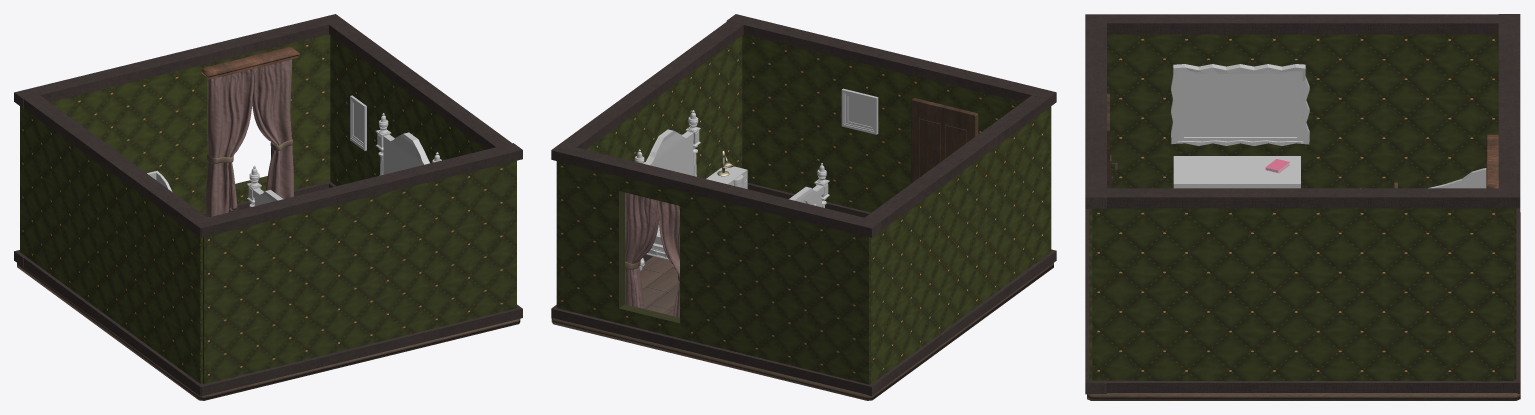
The model's file is 2nd room RETEXTURES.fbx.
3 views of the same model, side by side, from view 1: azimuth 30°, elevation 25°; view 2: azimuth 150°, elevation 25°; view 3: azimuth 270°, elevation 25° (orthographic). The views are drawn at different scales.
Parts seen in each view (by area): view 1: 2_wall3, 2_wall4, 2_wall1, 2_wall2, 2_Curtains, 2_Floor, 2_Bed, 2_painting3; view 2: 2_wall1, 2_wall4, 2_wall3, 2_wall2, 2_Floor, 2_Curtains, 2_Door, 2_Bed, 2_painting2, 2_shelf; view 3: 2_wall2, 2_wall4, 2_Painting1, 2_wall3, 2_wall1, 2_cupboardlong, 2_Floor, 2_Curtains, 2_desk, 2_Door.
Boxes of the visible parts, left/top/right/bottom form: 2_wall3: left=192, top=143, right=522, bottom=396; 2_wall4: left=16, top=89, right=206, bottom=396; 2_wall1: left=14, top=14, right=344, bottom=267; 2_wall2: left=329, top=16, right=518, bottom=311; 2_Curtains: left=201, top=46, right=299, bottom=217; 2_Floor: left=17, top=263, right=520, bottom=400; 2_Bed: left=247, top=113, right=441, bottom=207; 2_painting3: left=350, top=95, right=366, bottom=150; 2_wall1: left=551, top=143, right=881, bottom=396; 2_wall4: left=856, top=92, right=1056, bottom=388; 2_wall3: left=726, top=14, right=1056, bottom=257; 2_wall2: left=552, top=21, right=743, bottom=307; 2_Floor: left=551, top=256, right=1053, bottom=400; 2_Curtains: left=625, top=192, right=679, bottom=317; 2_Door: left=911, top=98, right=978, bottom=183; 2_Bed: left=635, top=110, right=829, bottom=270; 2_painting2: left=841, top=88, right=878, bottom=134; 2_shelf: left=706, top=166, right=747, bottom=188; 2_wall2: left=1088, top=188, right=1519, bottom=393; 2_wall4: left=1107, top=14, right=1519, bottom=188; 2_Painting1: left=1171, top=64, right=1309, bottom=145; 2_wall3: left=1085, top=14, right=1106, bottom=394; 2_wall1: left=1498, top=14, right=1520, bottom=393; 2_cupboardlong: left=1173, top=156, right=1300, bottom=188; 2_Floor: left=1087, top=212, right=1520, bottom=400; 2_Curtains: left=1486, top=134, right=1498, bottom=188; 2_desk: left=1428, top=168, right=1486, bottom=188; 2_Door: left=1107, top=93, right=1117, bottom=188.
Bounding box in the file's own units: 1004 × 519 × 1003.
